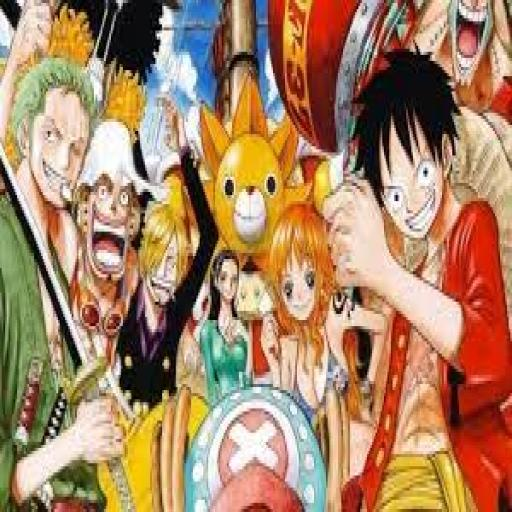Luffy: (317, 49, 512, 512)
Nami: (263, 192, 385, 448)
NicoRobin: (202, 241, 258, 425)
Usopp: (67, 95, 146, 397)
Zoro: (2, 34, 98, 510)
sanji: (132, 88, 200, 416)
